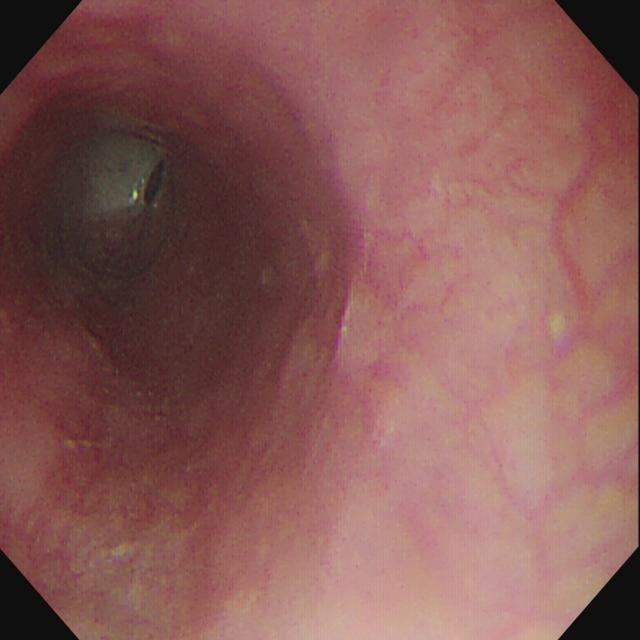J: (75, 126, 147, 214)
